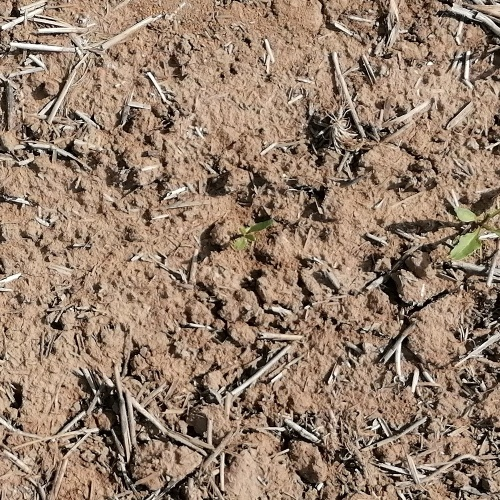beet: (448, 202, 500, 261), (233, 222, 272, 251)
